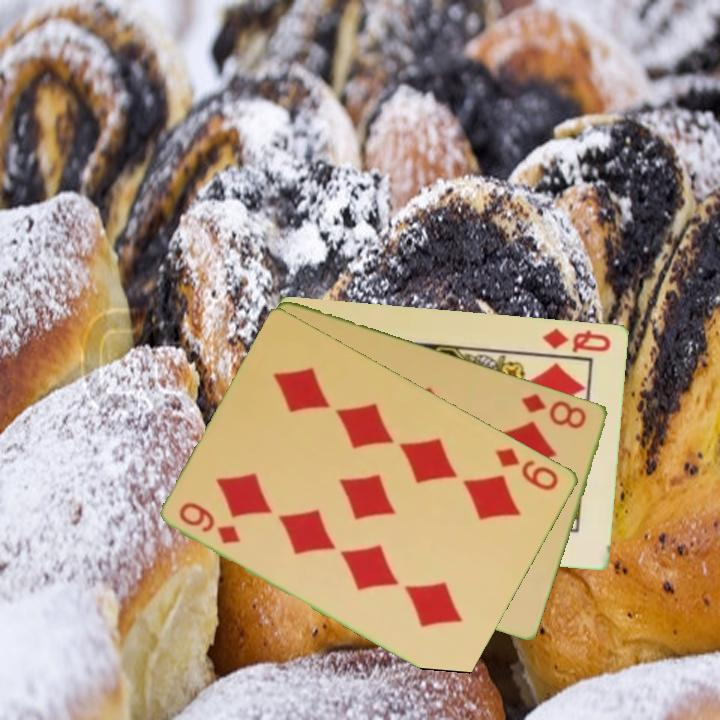8d: (518, 389, 590, 432)
9d: (492, 444, 562, 494), (176, 498, 244, 547)
Qd: (539, 324, 614, 356)
